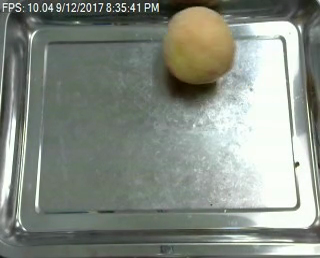Peach: (163, 6, 235, 85)
